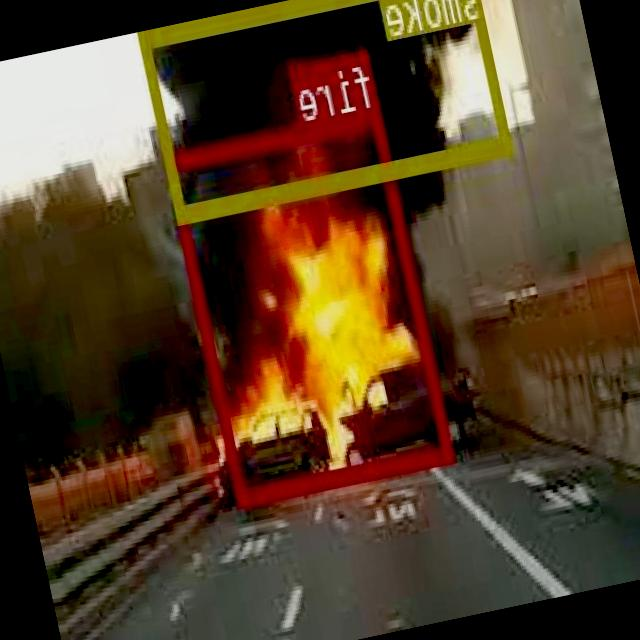fire: (164, 106, 454, 503)
smoke: (141, 0, 516, 220)
